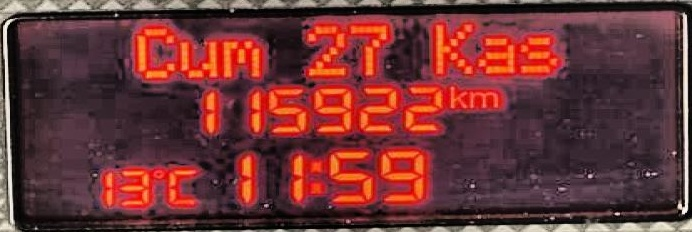1: (287, 153, 303, 203), (200, 88, 217, 134), (237, 154, 252, 203), (247, 89, 260, 134), (100, 169, 113, 206)
2: (304, 22, 346, 76), (401, 84, 443, 131), (356, 85, 398, 132)
3: (117, 167, 148, 206)
5: (325, 149, 372, 203), (265, 86, 307, 133)
7: (347, 22, 387, 76)
9: (375, 147, 424, 202), (310, 85, 352, 132)
X: (431, 21, 474, 74), (133, 25, 175, 79), (516, 34, 559, 74), (220, 38, 260, 78), (474, 35, 514, 74), (177, 39, 215, 79), (164, 167, 199, 205), (307, 158, 322, 194), (468, 90, 498, 107), (448, 85, 468, 109)
